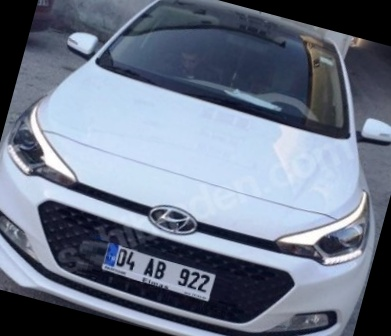plaka: (115, 242, 212, 295)
